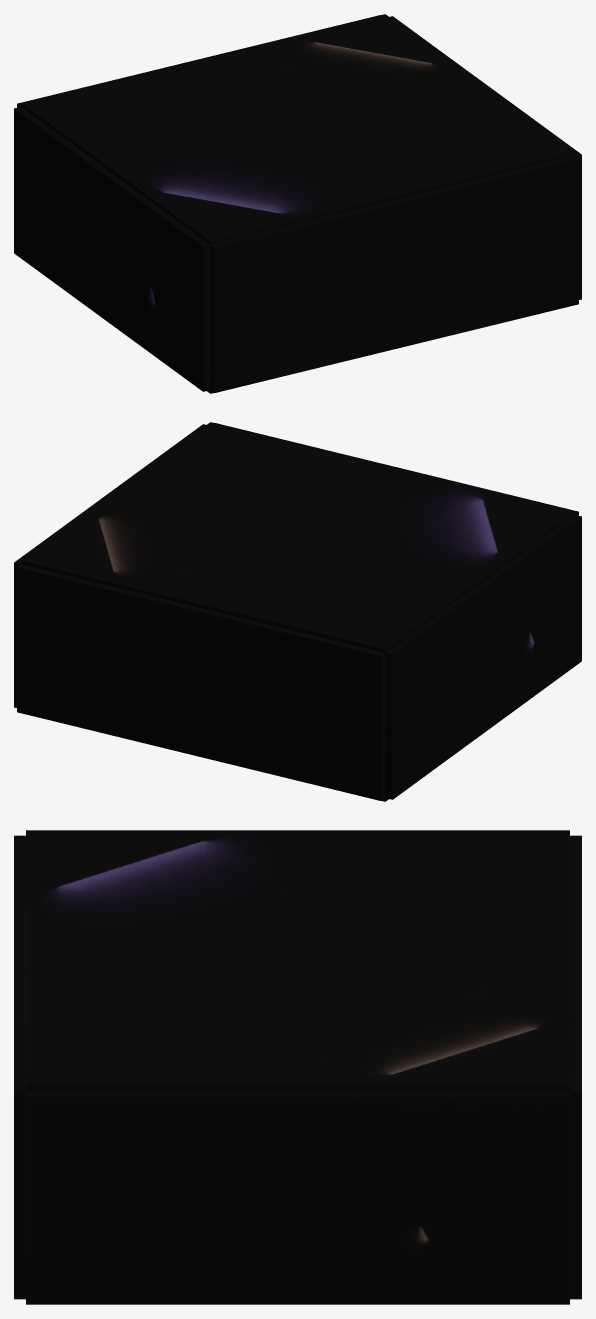
The model's file is archive.glb.
The picture shows the model from 3 angles, top to bottom: view 1: azimuth 30°, elevation 25°; view 2: azimuth 150°, elevation 25°; view 3: azimuth 270°, elevation 25°; orthographic projection. The views are drawn at different scales.
Parts seen in each view (by area): view 1: bake_room; view 2: bake_room; view 3: bake_room.
Part boxes in pixels (x1,y1,x2,y2): bake_room: [14, 14, 581, 393]; bake_room: [14, 422, 581, 801]; bake_room: [14, 830, 581, 1304].
Size of the model in its own units: 10.4 by 4 by 9.4.
12 materials, 8 textured.
